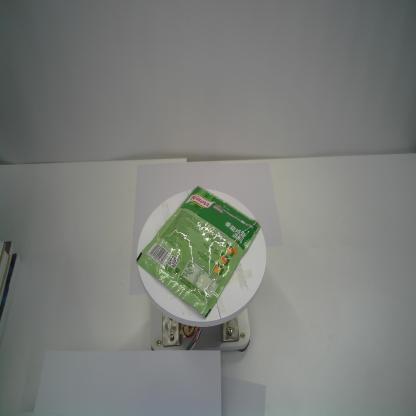Seasoner: (135, 186, 262, 320)
